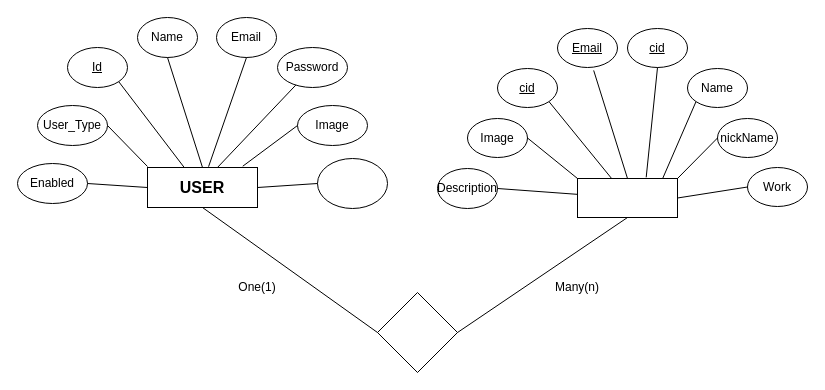
The diagram is 825 pixels wide and 390 high, and some of its shapes have lost their labels. The shapes that lost their labels are listed below. From the top down, each one's box as (x1, y1, x2, y2) in pixels, then its label:
(316, 158, 388, 208): Details
(576, 178, 678, 218): CONTACT
(376, 292, 458, 372): Has
